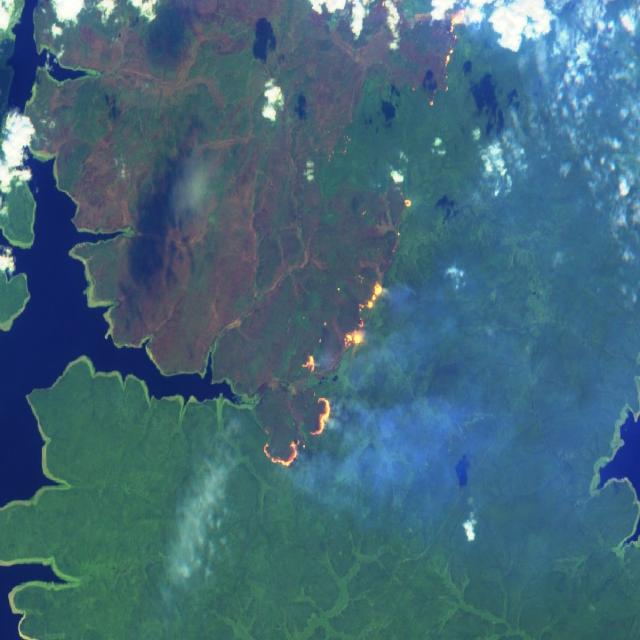fire: (301, 265, 394, 374), (263, 383, 339, 488), (407, 8, 474, 114), (378, 176, 426, 218)
